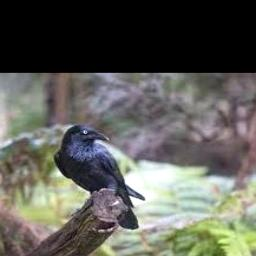Crow: (53, 125, 145, 208)
